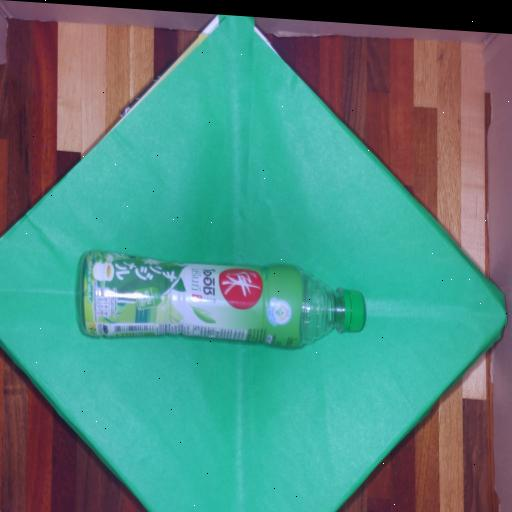bottle: (82, 252, 365, 347)
